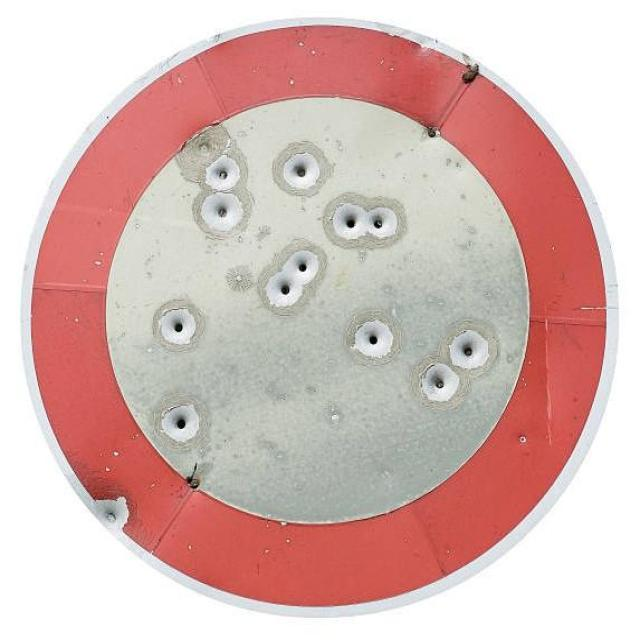obstructed_road_sign: (24, 20, 616, 614)
